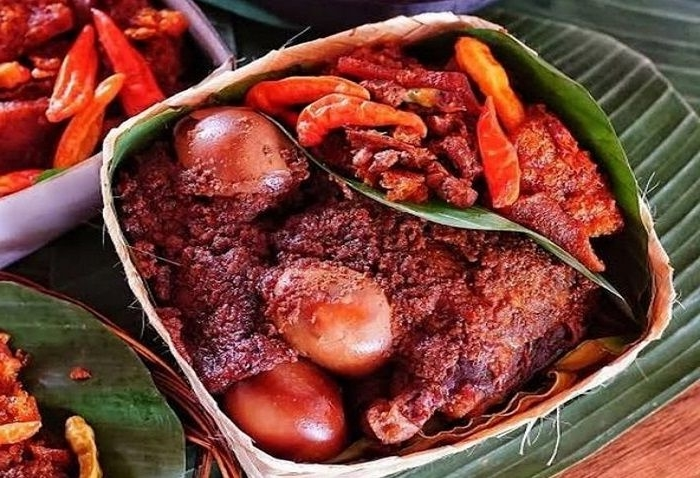gudeg: (173, 34, 626, 454)
